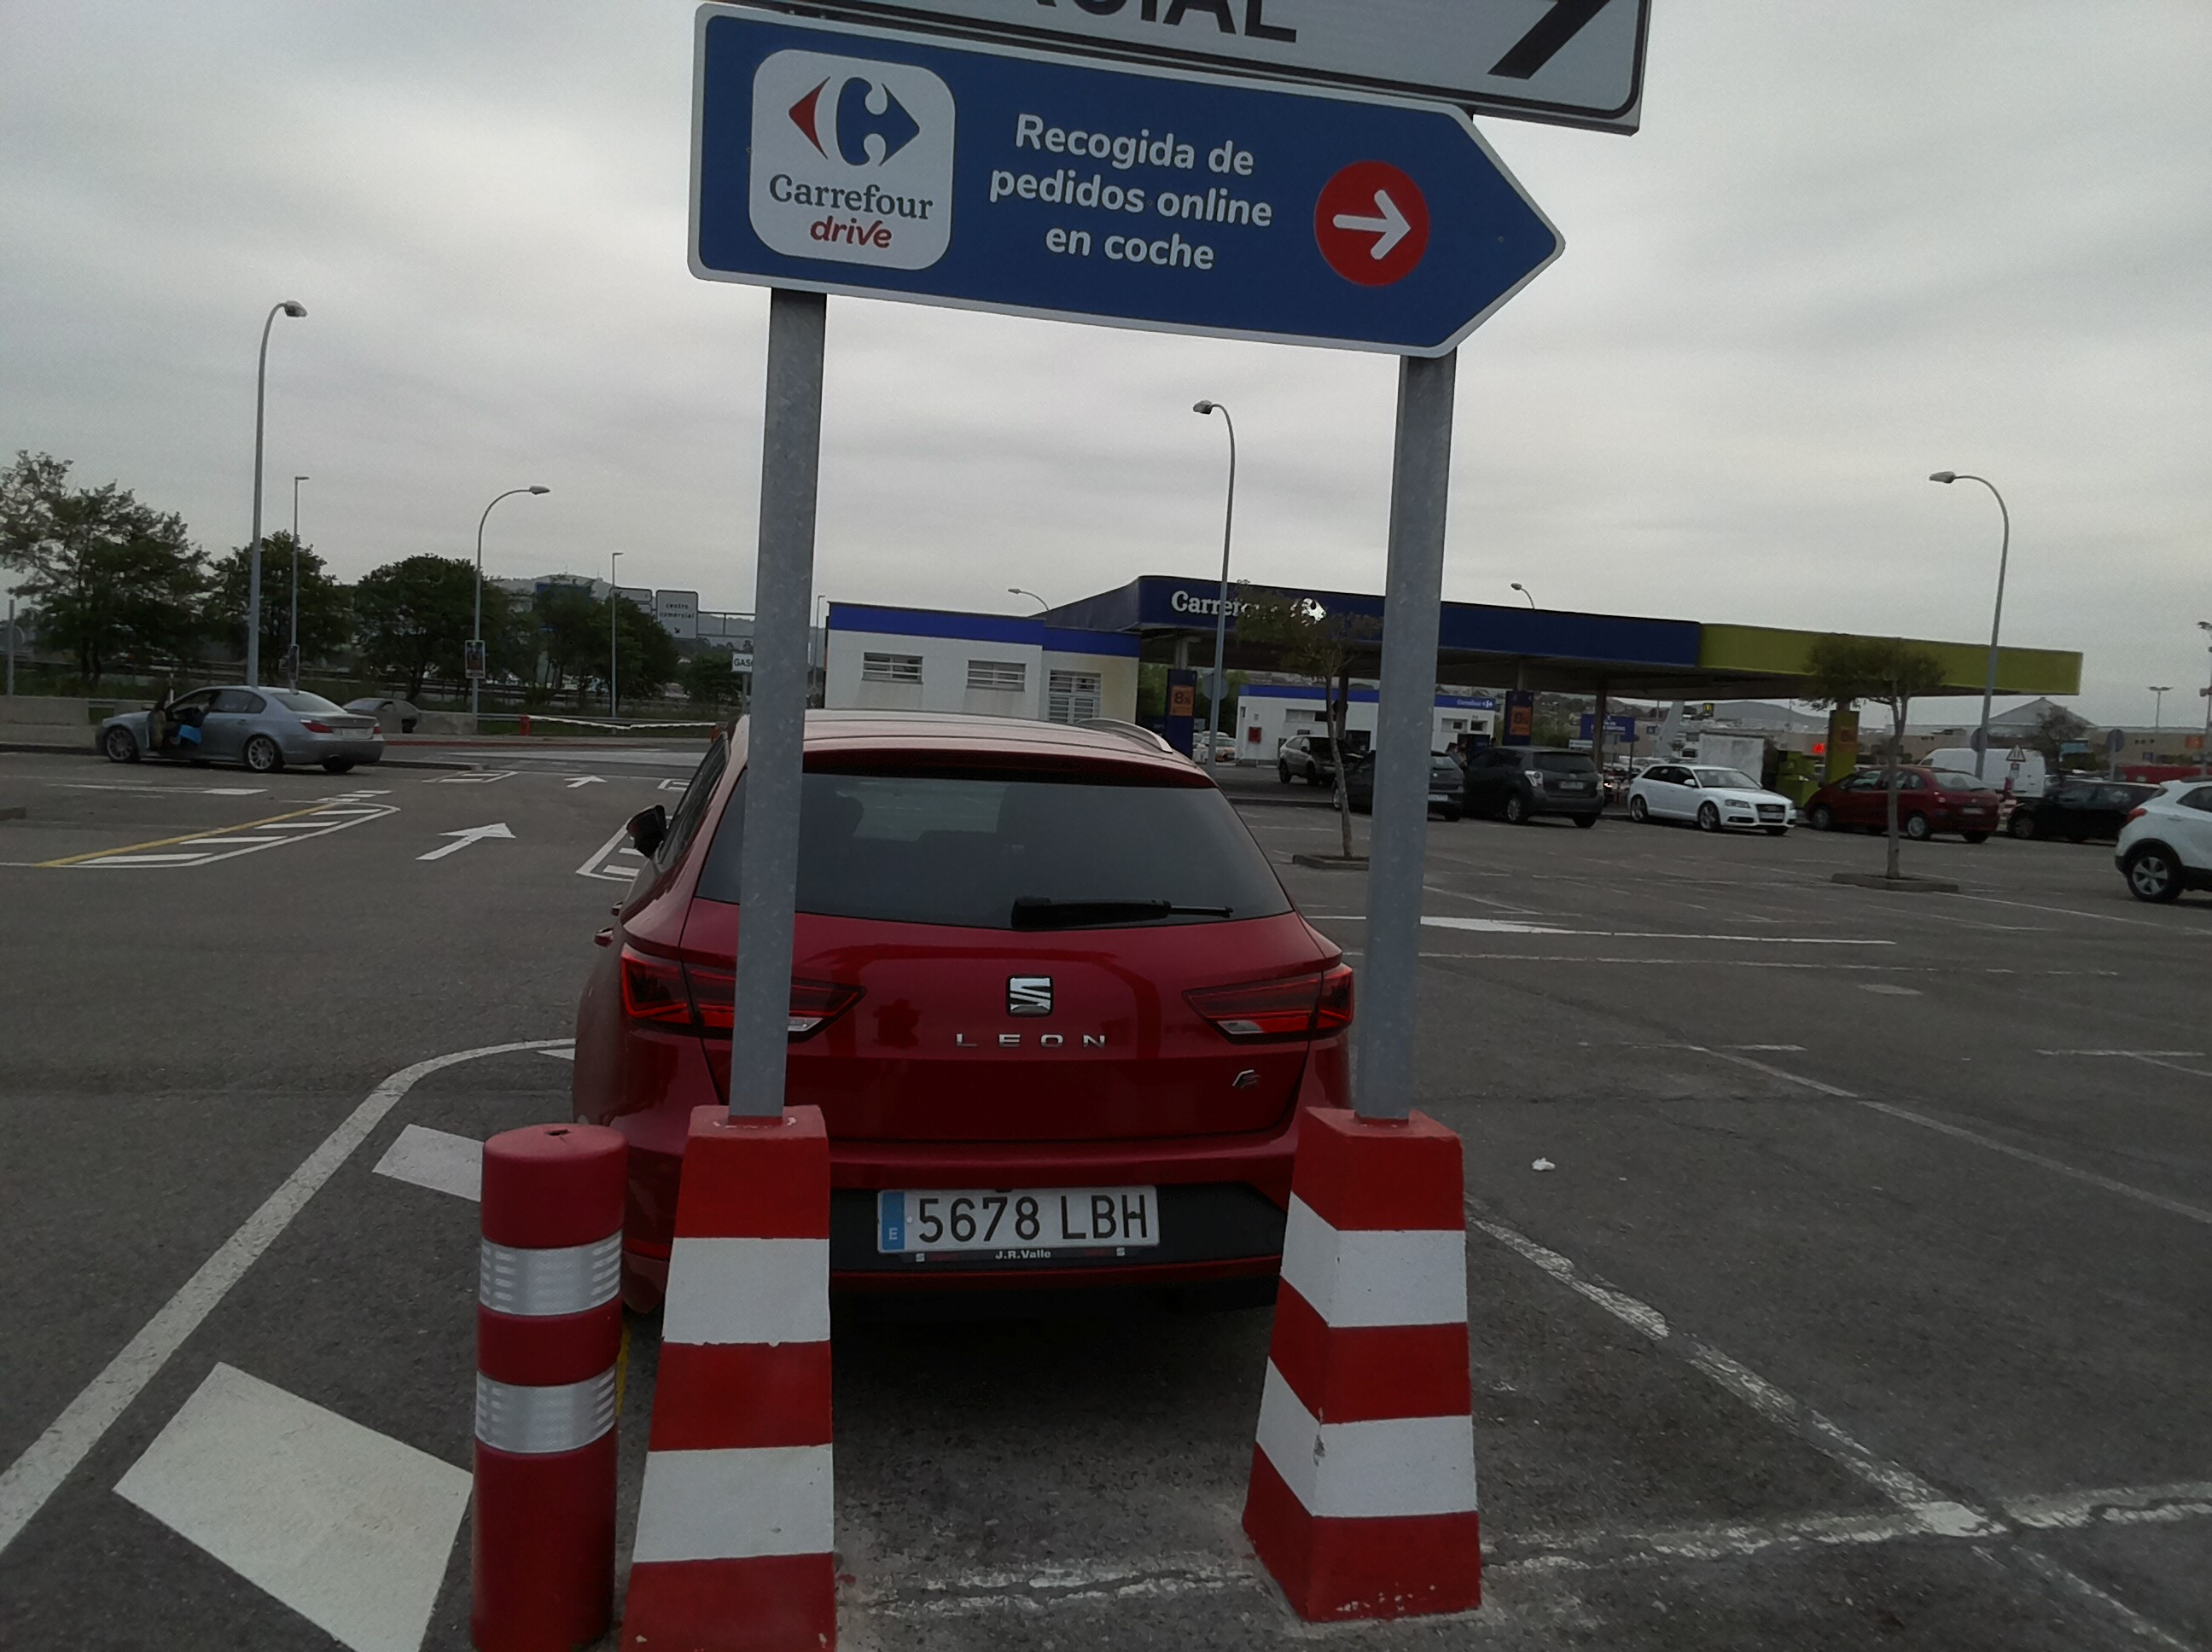Cartel: (680, 0, 1622, 371)
Poste: (1230, 1102, 1506, 1638), (718, 288, 828, 1135), (455, 1119, 625, 1652), (1357, 337, 1469, 1126)
Vehiculo: (555, 691, 1423, 1347)
